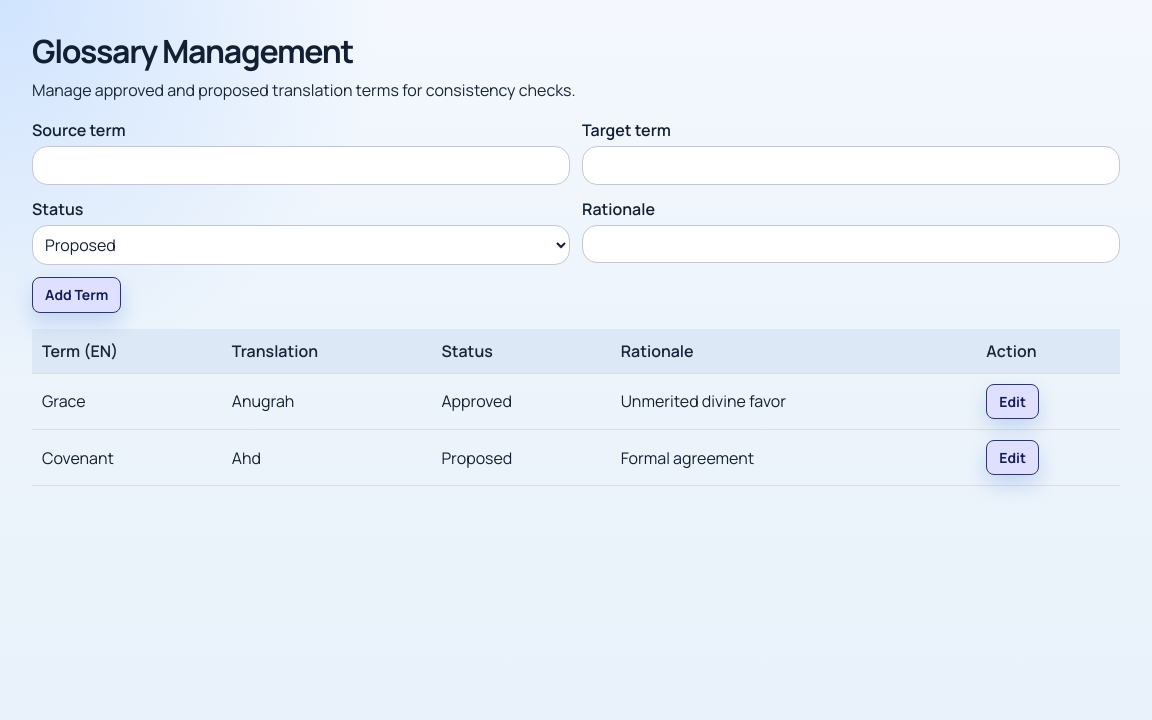
GlossaryManager › adds a new term from the form
Type "Messiah" into the field labelled "Source term" at (301, 166), box top-left (32, 146), bottom-right (570, 185)
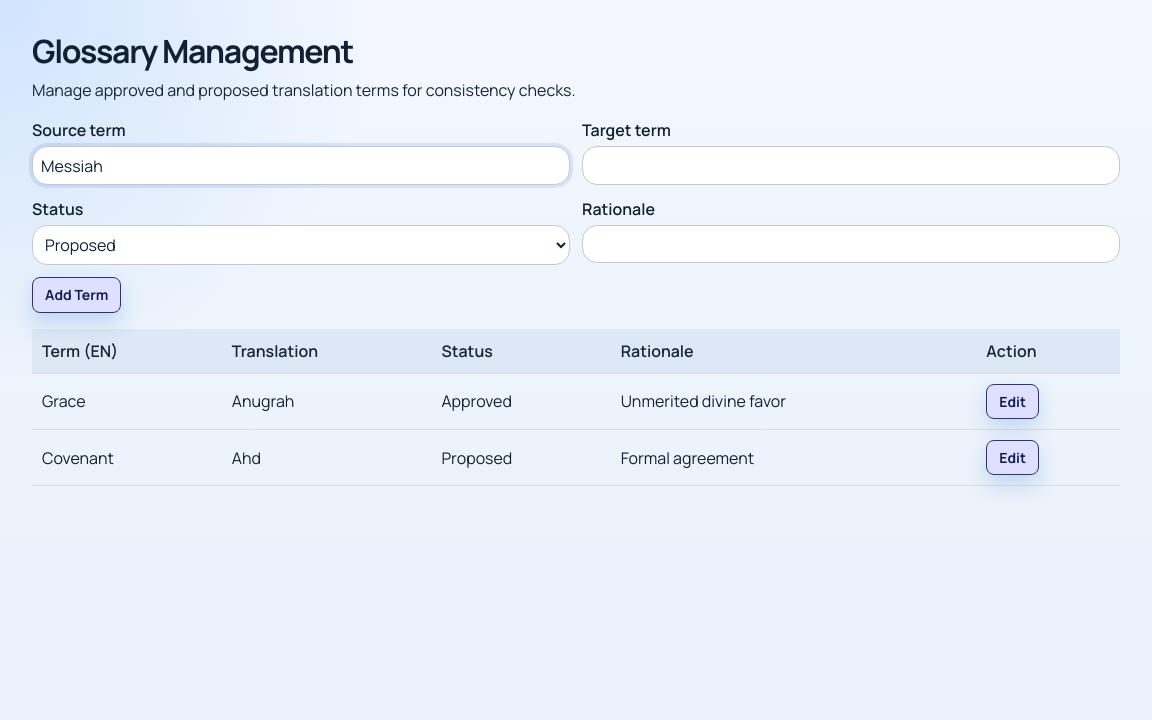
Type "Masih" into the field labelled "Target term" at (851, 166), box top-left (582, 146), bottom-right (1120, 185)
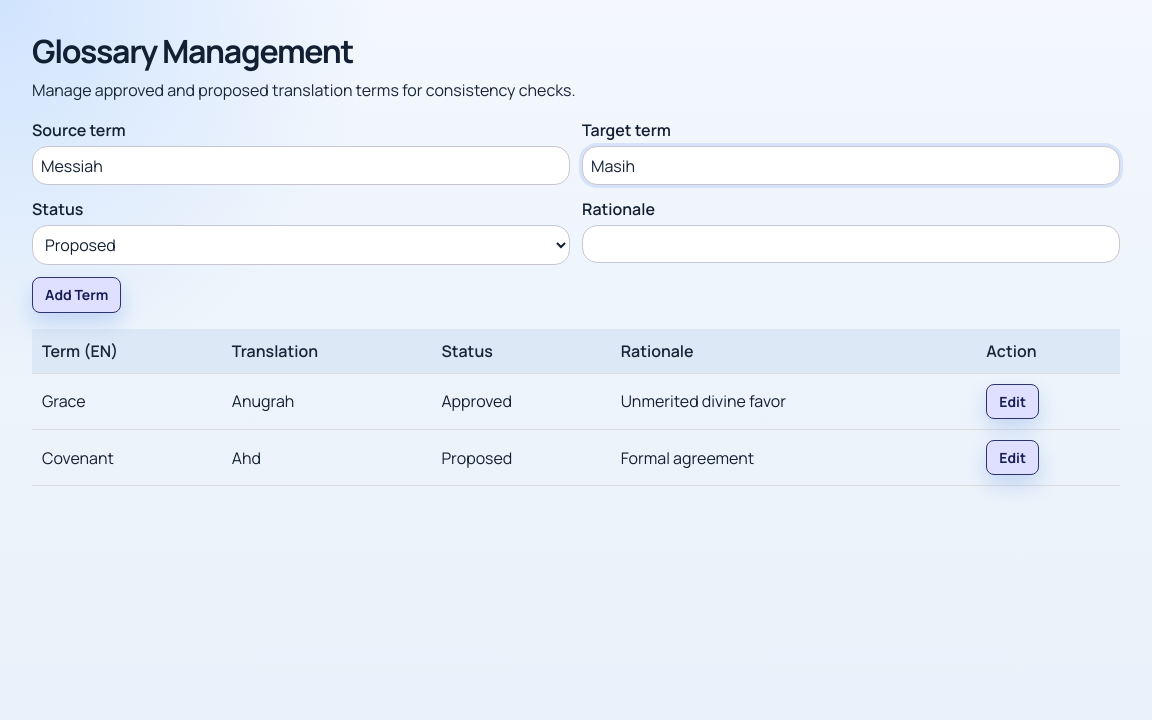
Click the button "Add Term" at (77, 295), box top-left (32, 277), bottom-right (121, 312)
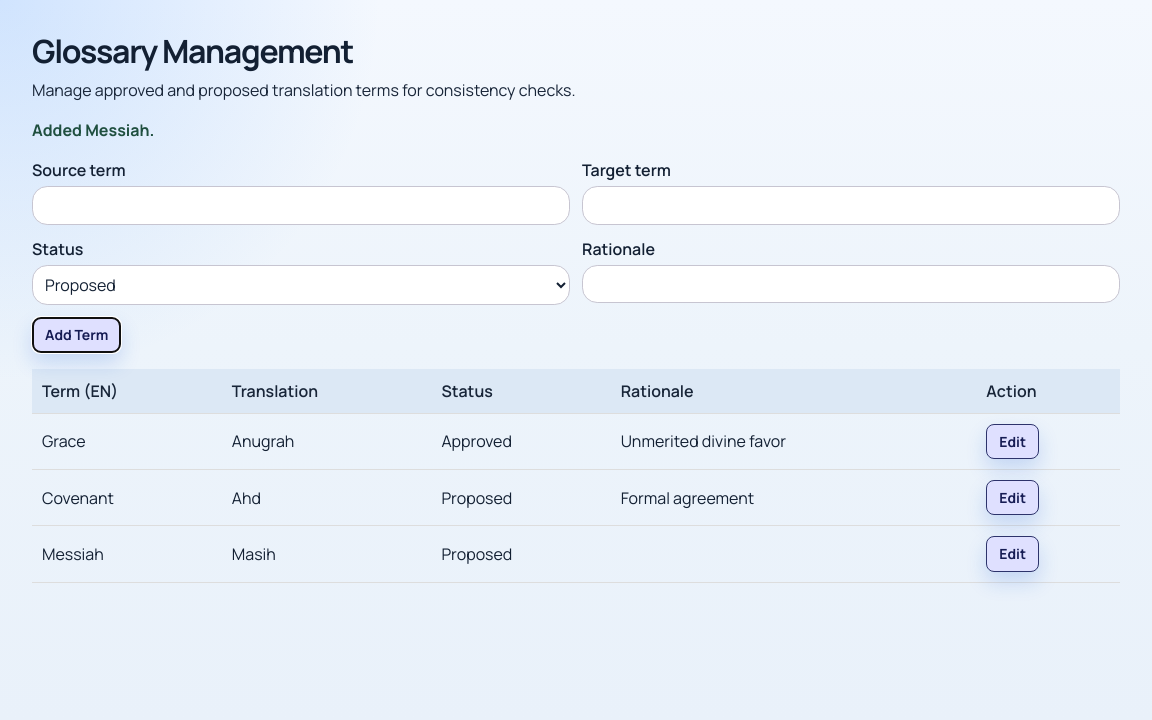
Result: the cell "Messiah" is shown at top-left (32, 526), bottom-right (222, 582)
Result: the cell "Masih" is shown at top-left (222, 526), bottom-right (431, 582)
